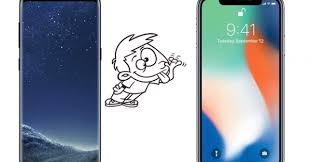iphone: (192, 1, 288, 161)
iphone10: (193, 1, 289, 161)
